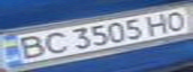0: (106, 19, 130, 44)
3: (69, 25, 93, 51)
5: (124, 16, 148, 40), (90, 22, 112, 47)
B: (9, 33, 51, 61)
C: (36, 29, 72, 56)
H: (139, 11, 175, 36)
O: (160, 8, 193, 33)
